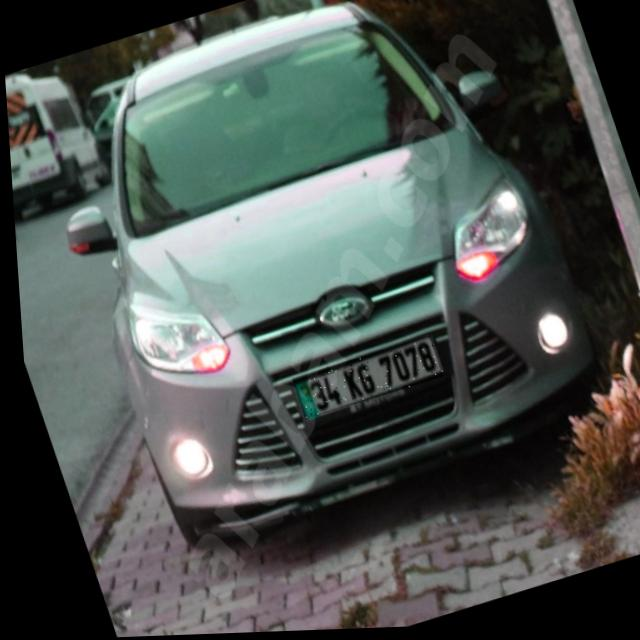license_plate: (284, 337, 440, 421)
